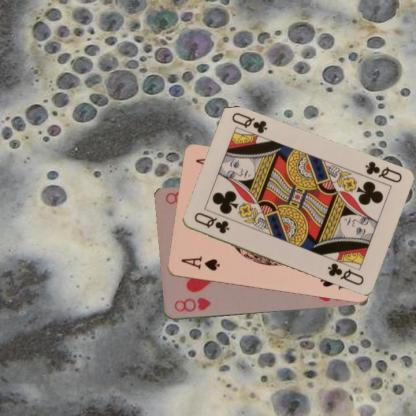8h: (172, 295, 212, 314)
As: (178, 255, 221, 273)
Qc: (362, 158, 403, 184), (191, 210, 231, 235)
